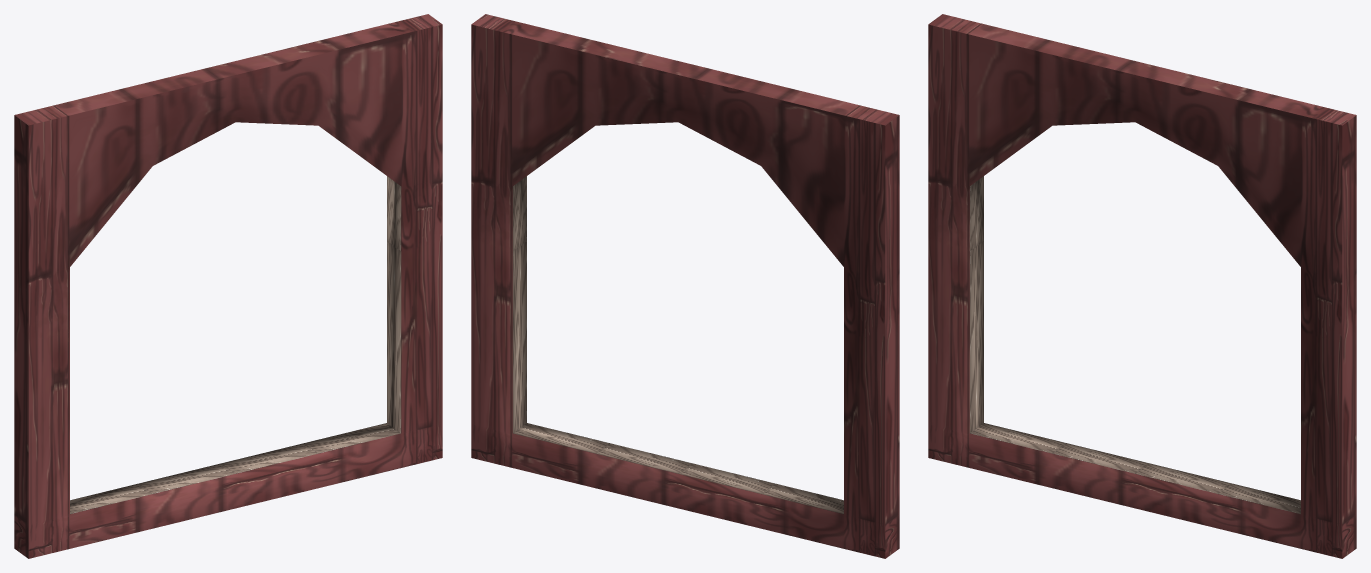
Rendered from barn_wallHole.fbx.
The picture shows the model from 3 angles, left to right: view 1: azimuth 30°, elevation 25°; view 2: azimuth 150°, elevation 25°; view 3: azimuth 330°, elevation 25°; orthographic projection.
Parts seen in each view (by area): view 1: barn_turnipHole; view 2: barn_turnipHole; view 3: barn_turnipHole.
Boxes of the visible parts, x1,y1,x2,y2 form: barn_turnipHole: (14,14,442,558); barn_turnipHole: (471,14,899,558); barn_turnipHole: (928,14,1356,558).
Size of the model in its own units: 5 by 5 by 0.3.
